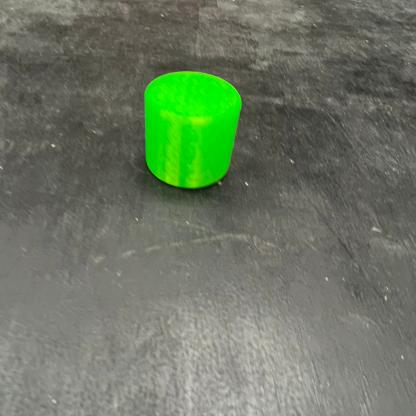green cylinder: (143, 70, 244, 191)
